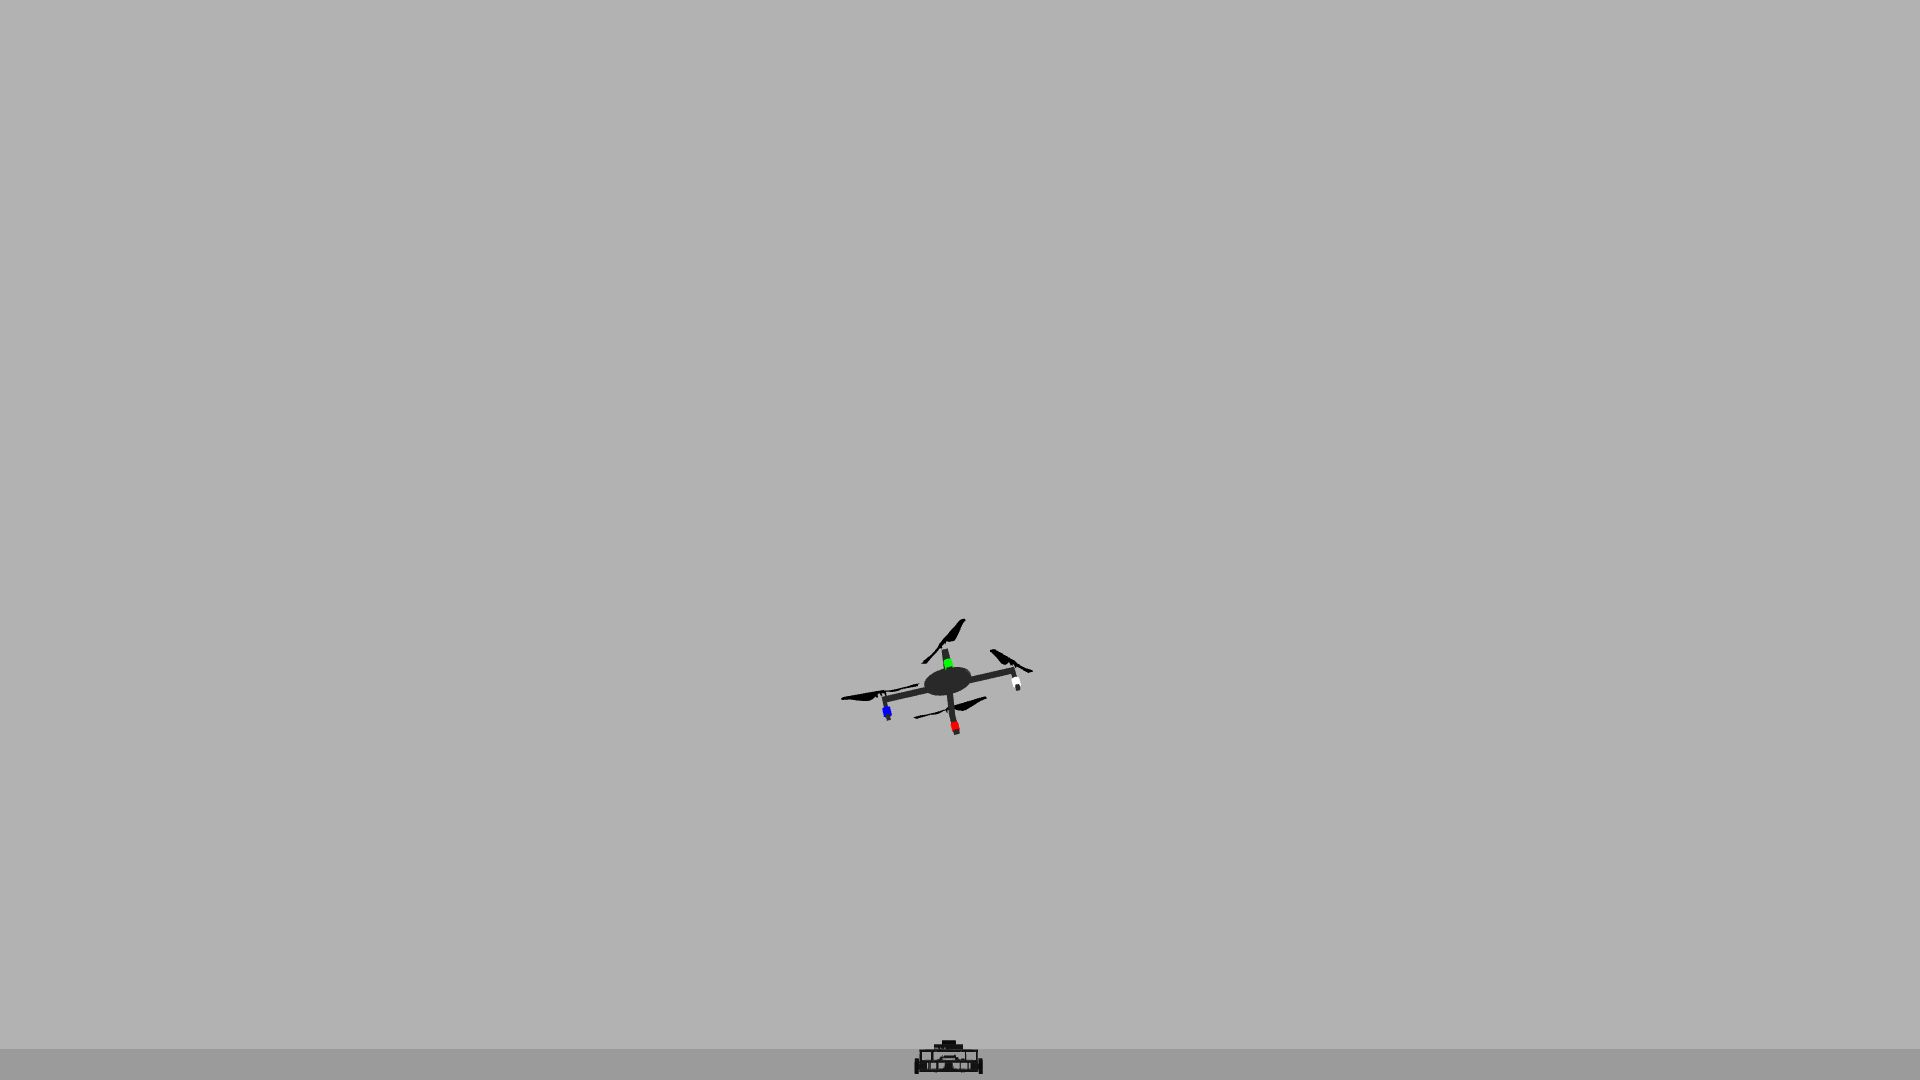drone: (829, 605, 1056, 764)
